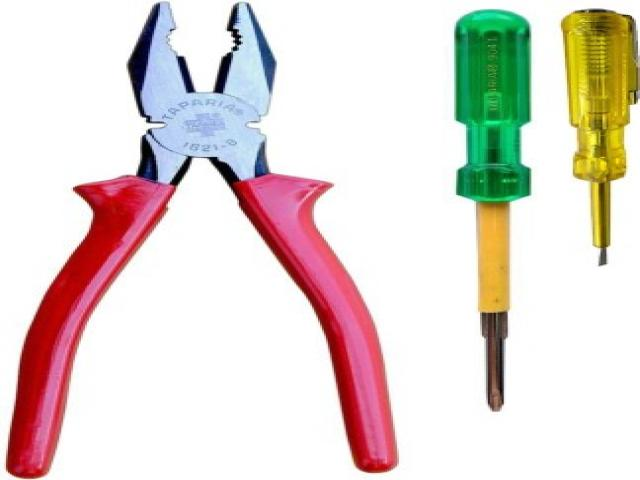Pliers: (6, 2, 396, 478)
Screwdriver: (456, 10, 531, 410), (562, 9, 639, 265)
